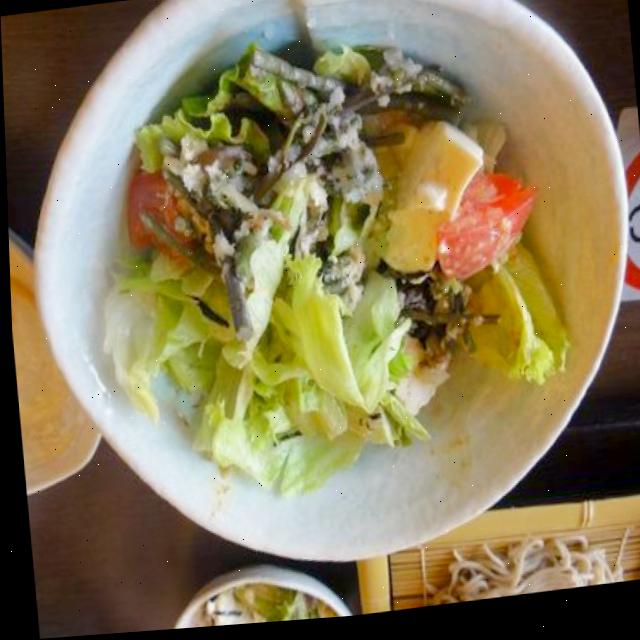蔬菜料理: (20, 0, 640, 604)
